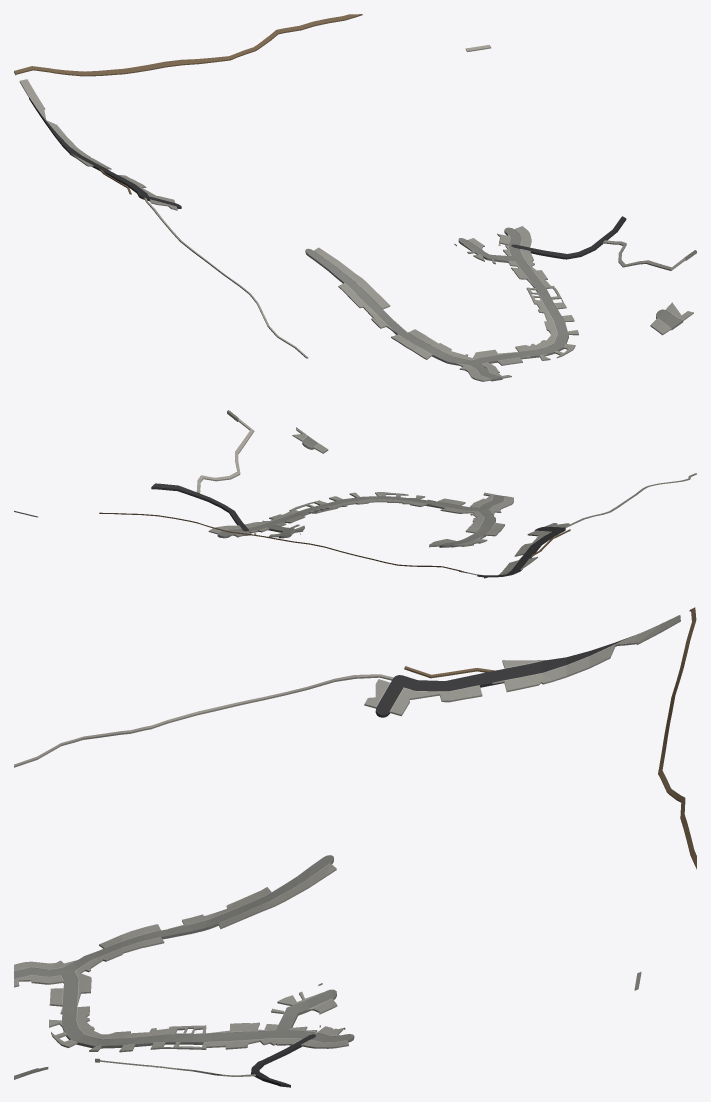
The picture shows the model from 3 angles, top to bottom: view 1: azimuth 30°, elevation 25°; view 2: azimuth 150°, elevation 25°; view 3: azimuth 270°, elevation 25°; orthographic projection. The views are drawn at different scales.
Size of the model in its own units: 293 by 111 by 292.
